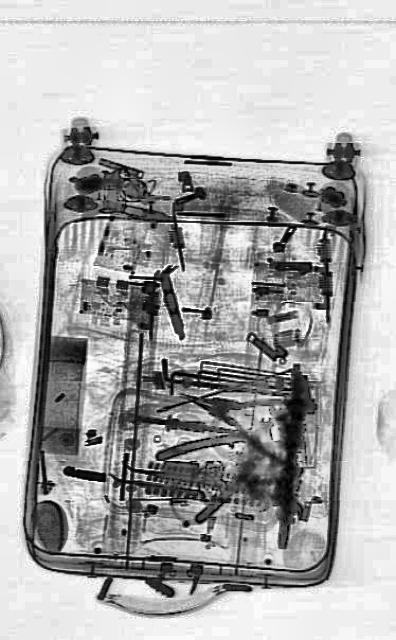Pliers: (173, 359, 291, 465)
